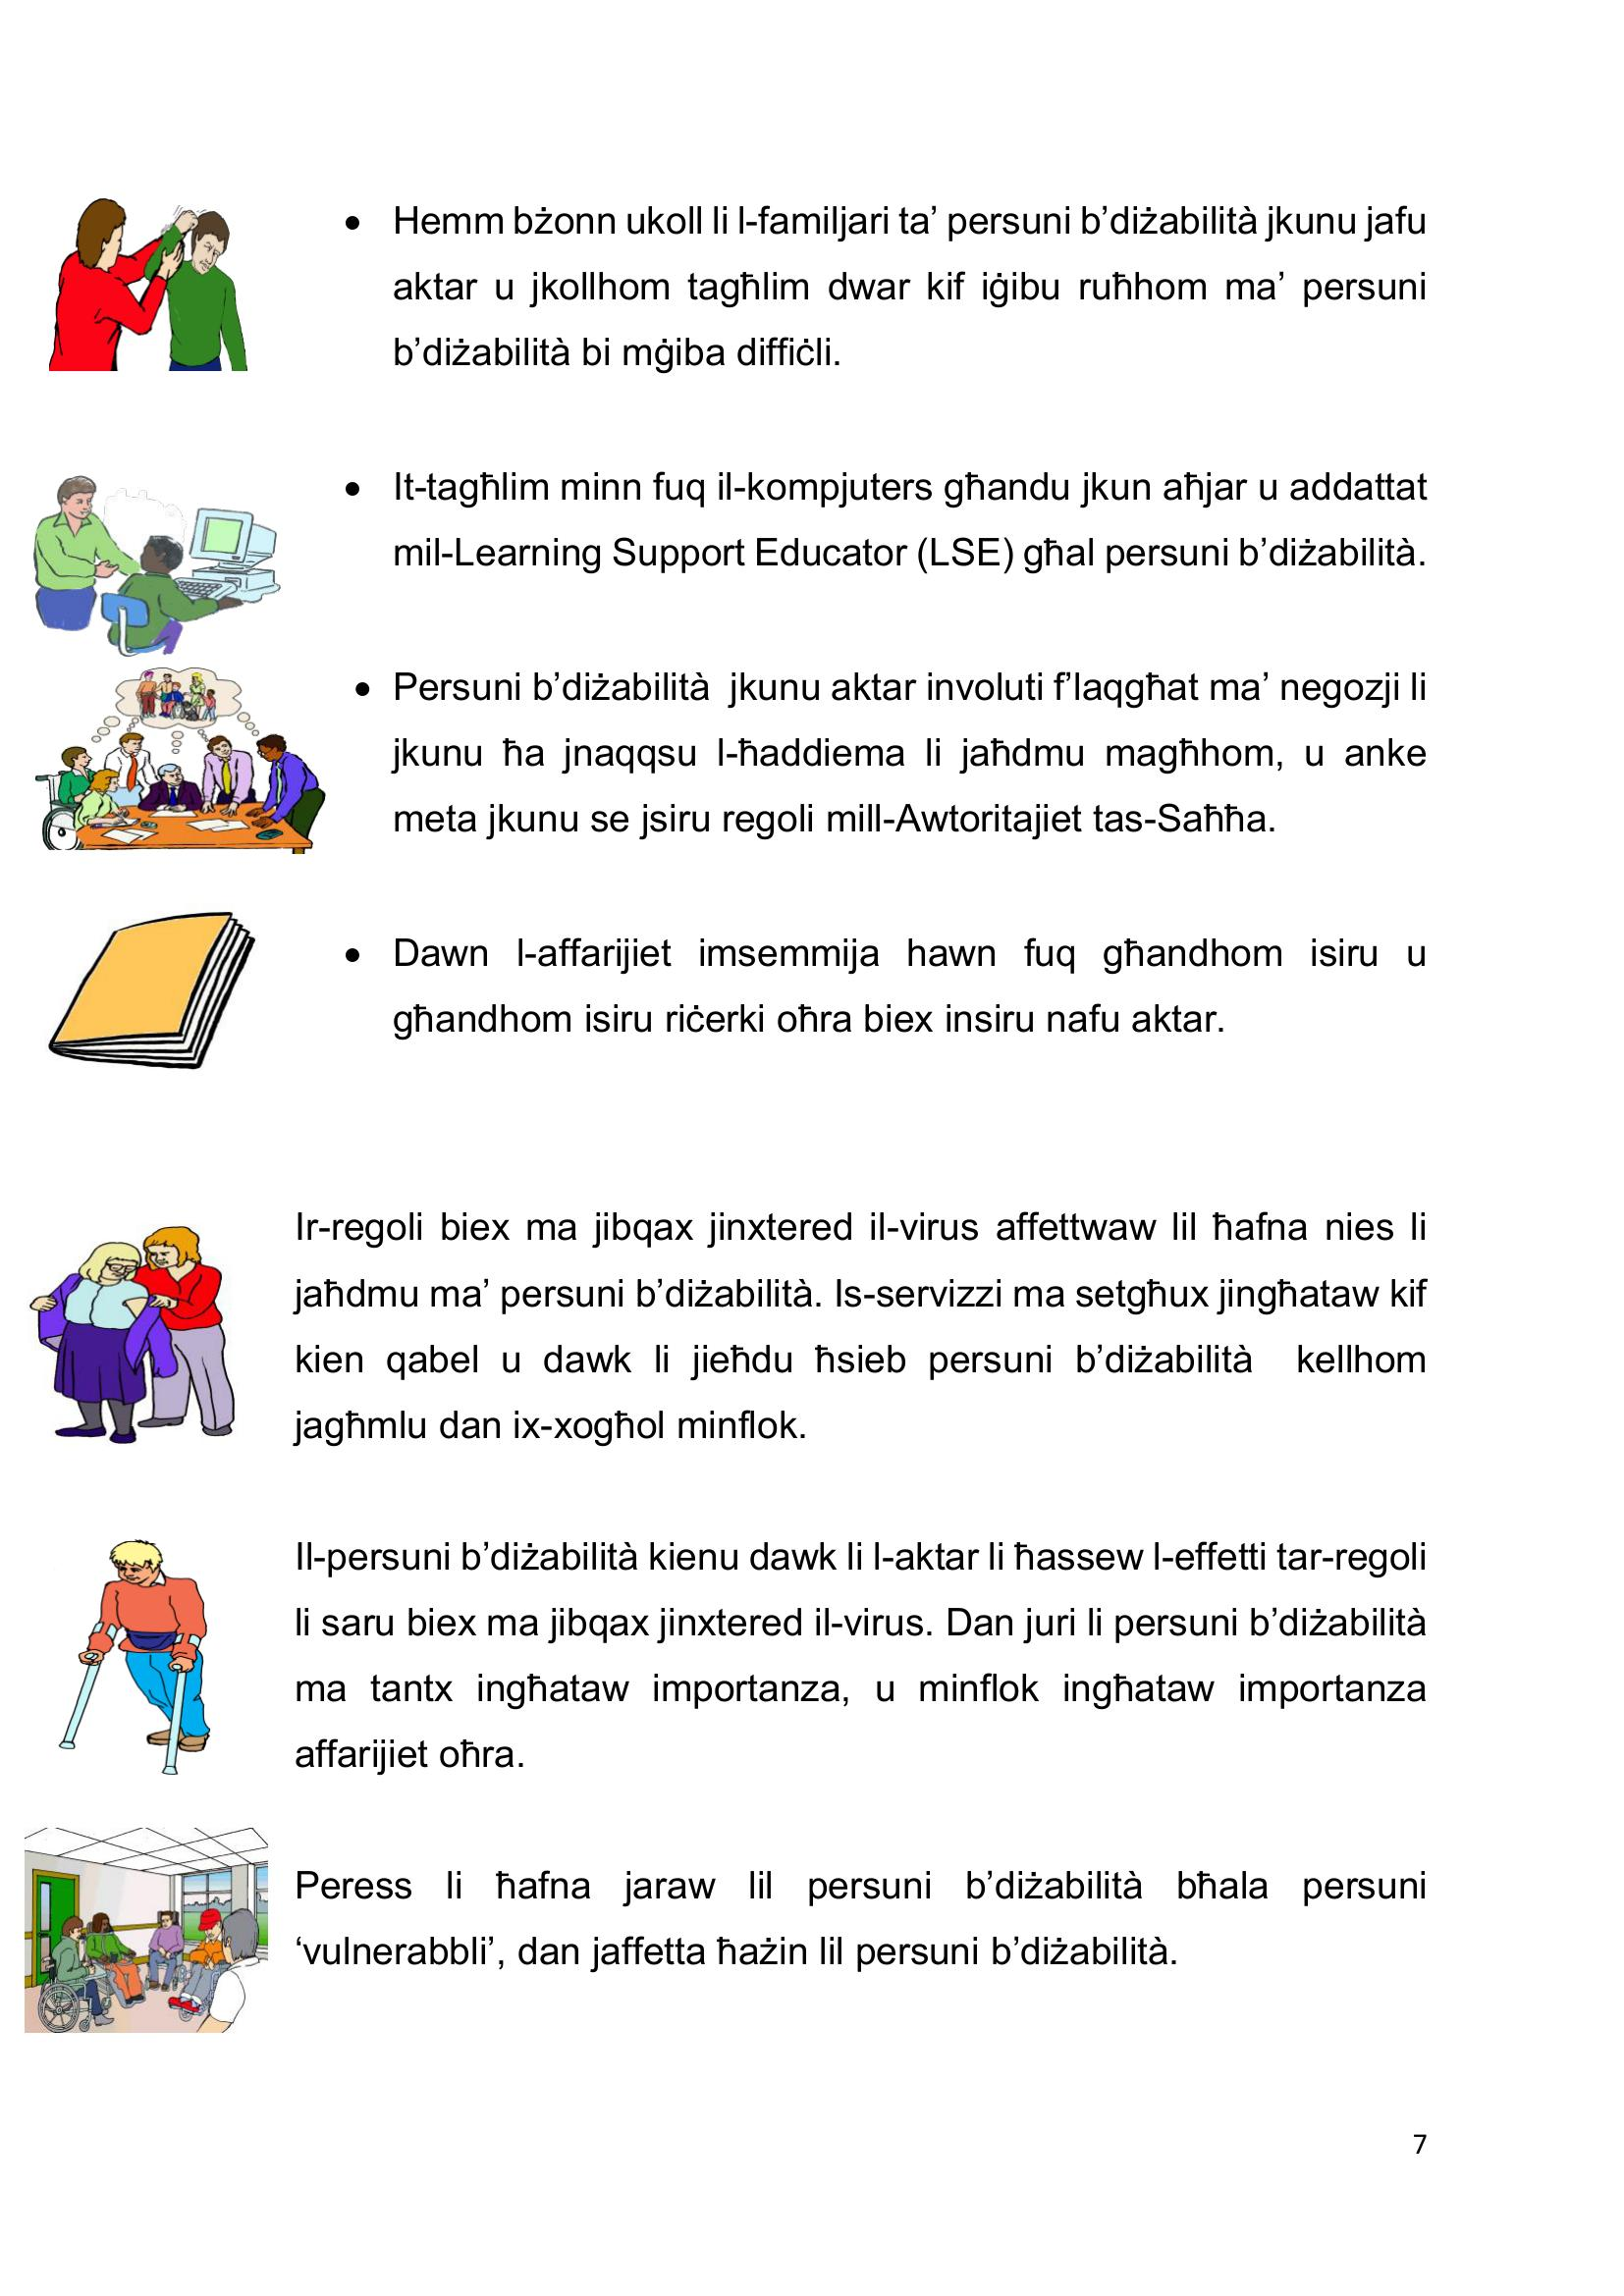text: (276, 174, 1464, 2015)
whiteout: (18, 163, 330, 1094)
